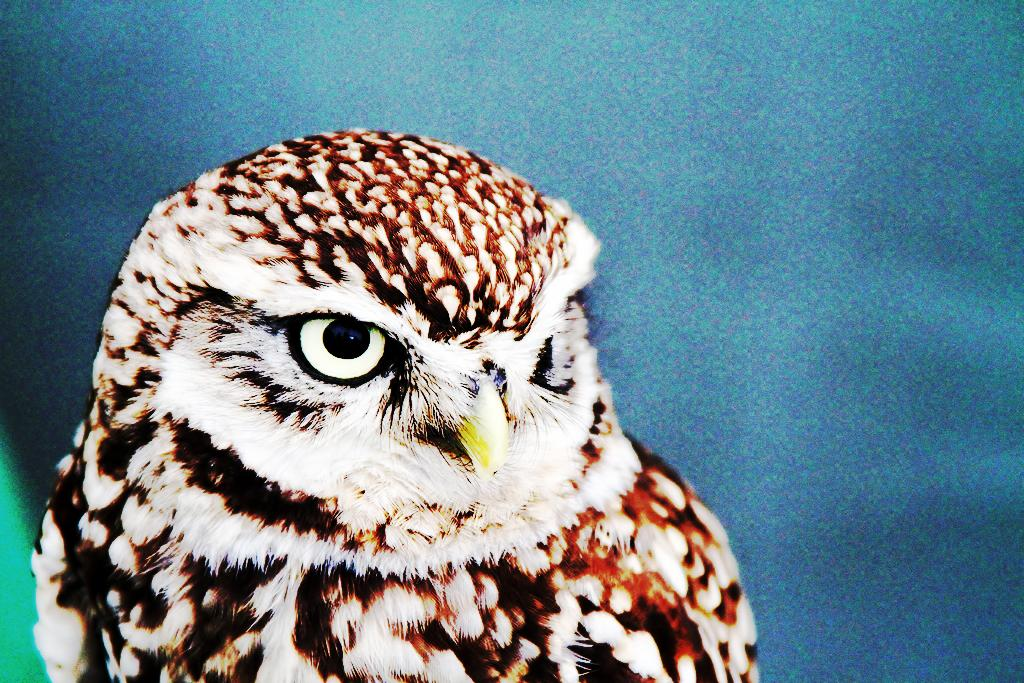Owl: (28, 128, 763, 682)
